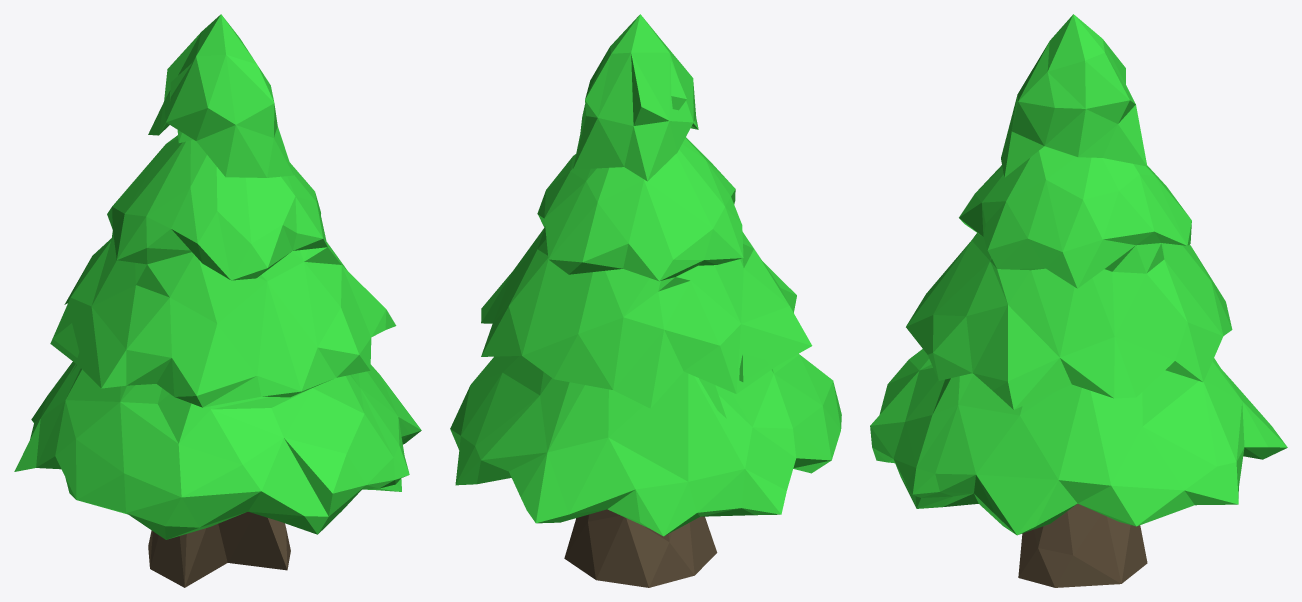
The model's file is Tree_7-col.glb.
3 renders of one model, left to right at view 1: azimuth 30°, elevation 25°; view 2: azimuth 150°, elevation 25°; view 3: azimuth 270°, elevation 25°, orthographic.
Visible parts, largest first — view 1: geometry_0.007; view 2: geometry_0.007; view 3: geometry_0.007.
Part boxes in pixels (x1=…): geometry_0.007: x1=14, y1=14, x2=421, y2=587; geometry_0.007: x1=450, y1=14, x2=841, y2=587; geometry_0.007: x1=870, y1=14, x2=1287, y2=587.
Size of the model in its own units: 1.33 by 2 by 1.38.
